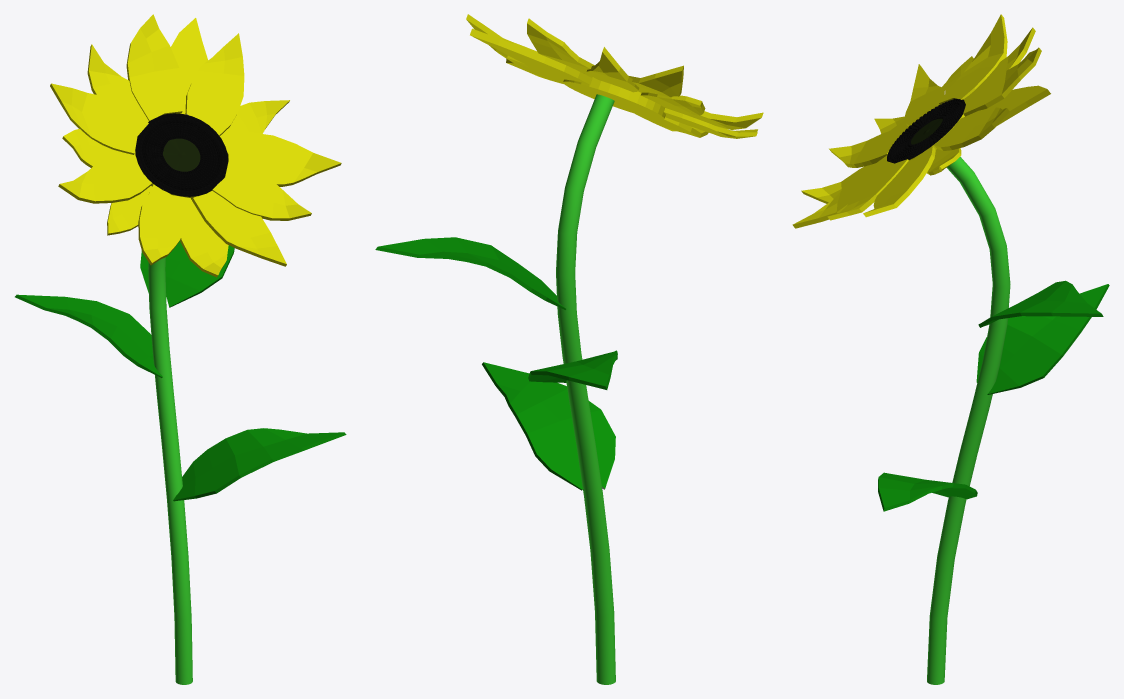
Rendered from sunflower.fbx.
3 renders of one model, left to right at view 1: azimuth 30°, elevation 25°; view 2: azimuth 150°, elevation 25°; view 3: azimuth 270°, elevation 25°, orthographic. The views are drawn at different scales.
Visible parts, largest first — view 1: Cube.006; view 2: Cube.006; view 3: Cube.006.
Boxes of the visible parts, <box> form: Cube.006: <box>15,14,346,684</box>; Cube.006: <box>375,14,763,684</box>; Cube.006: <box>792,14,1109,684</box>.
Size of the model in its own units: 298 by 660 by 295.
